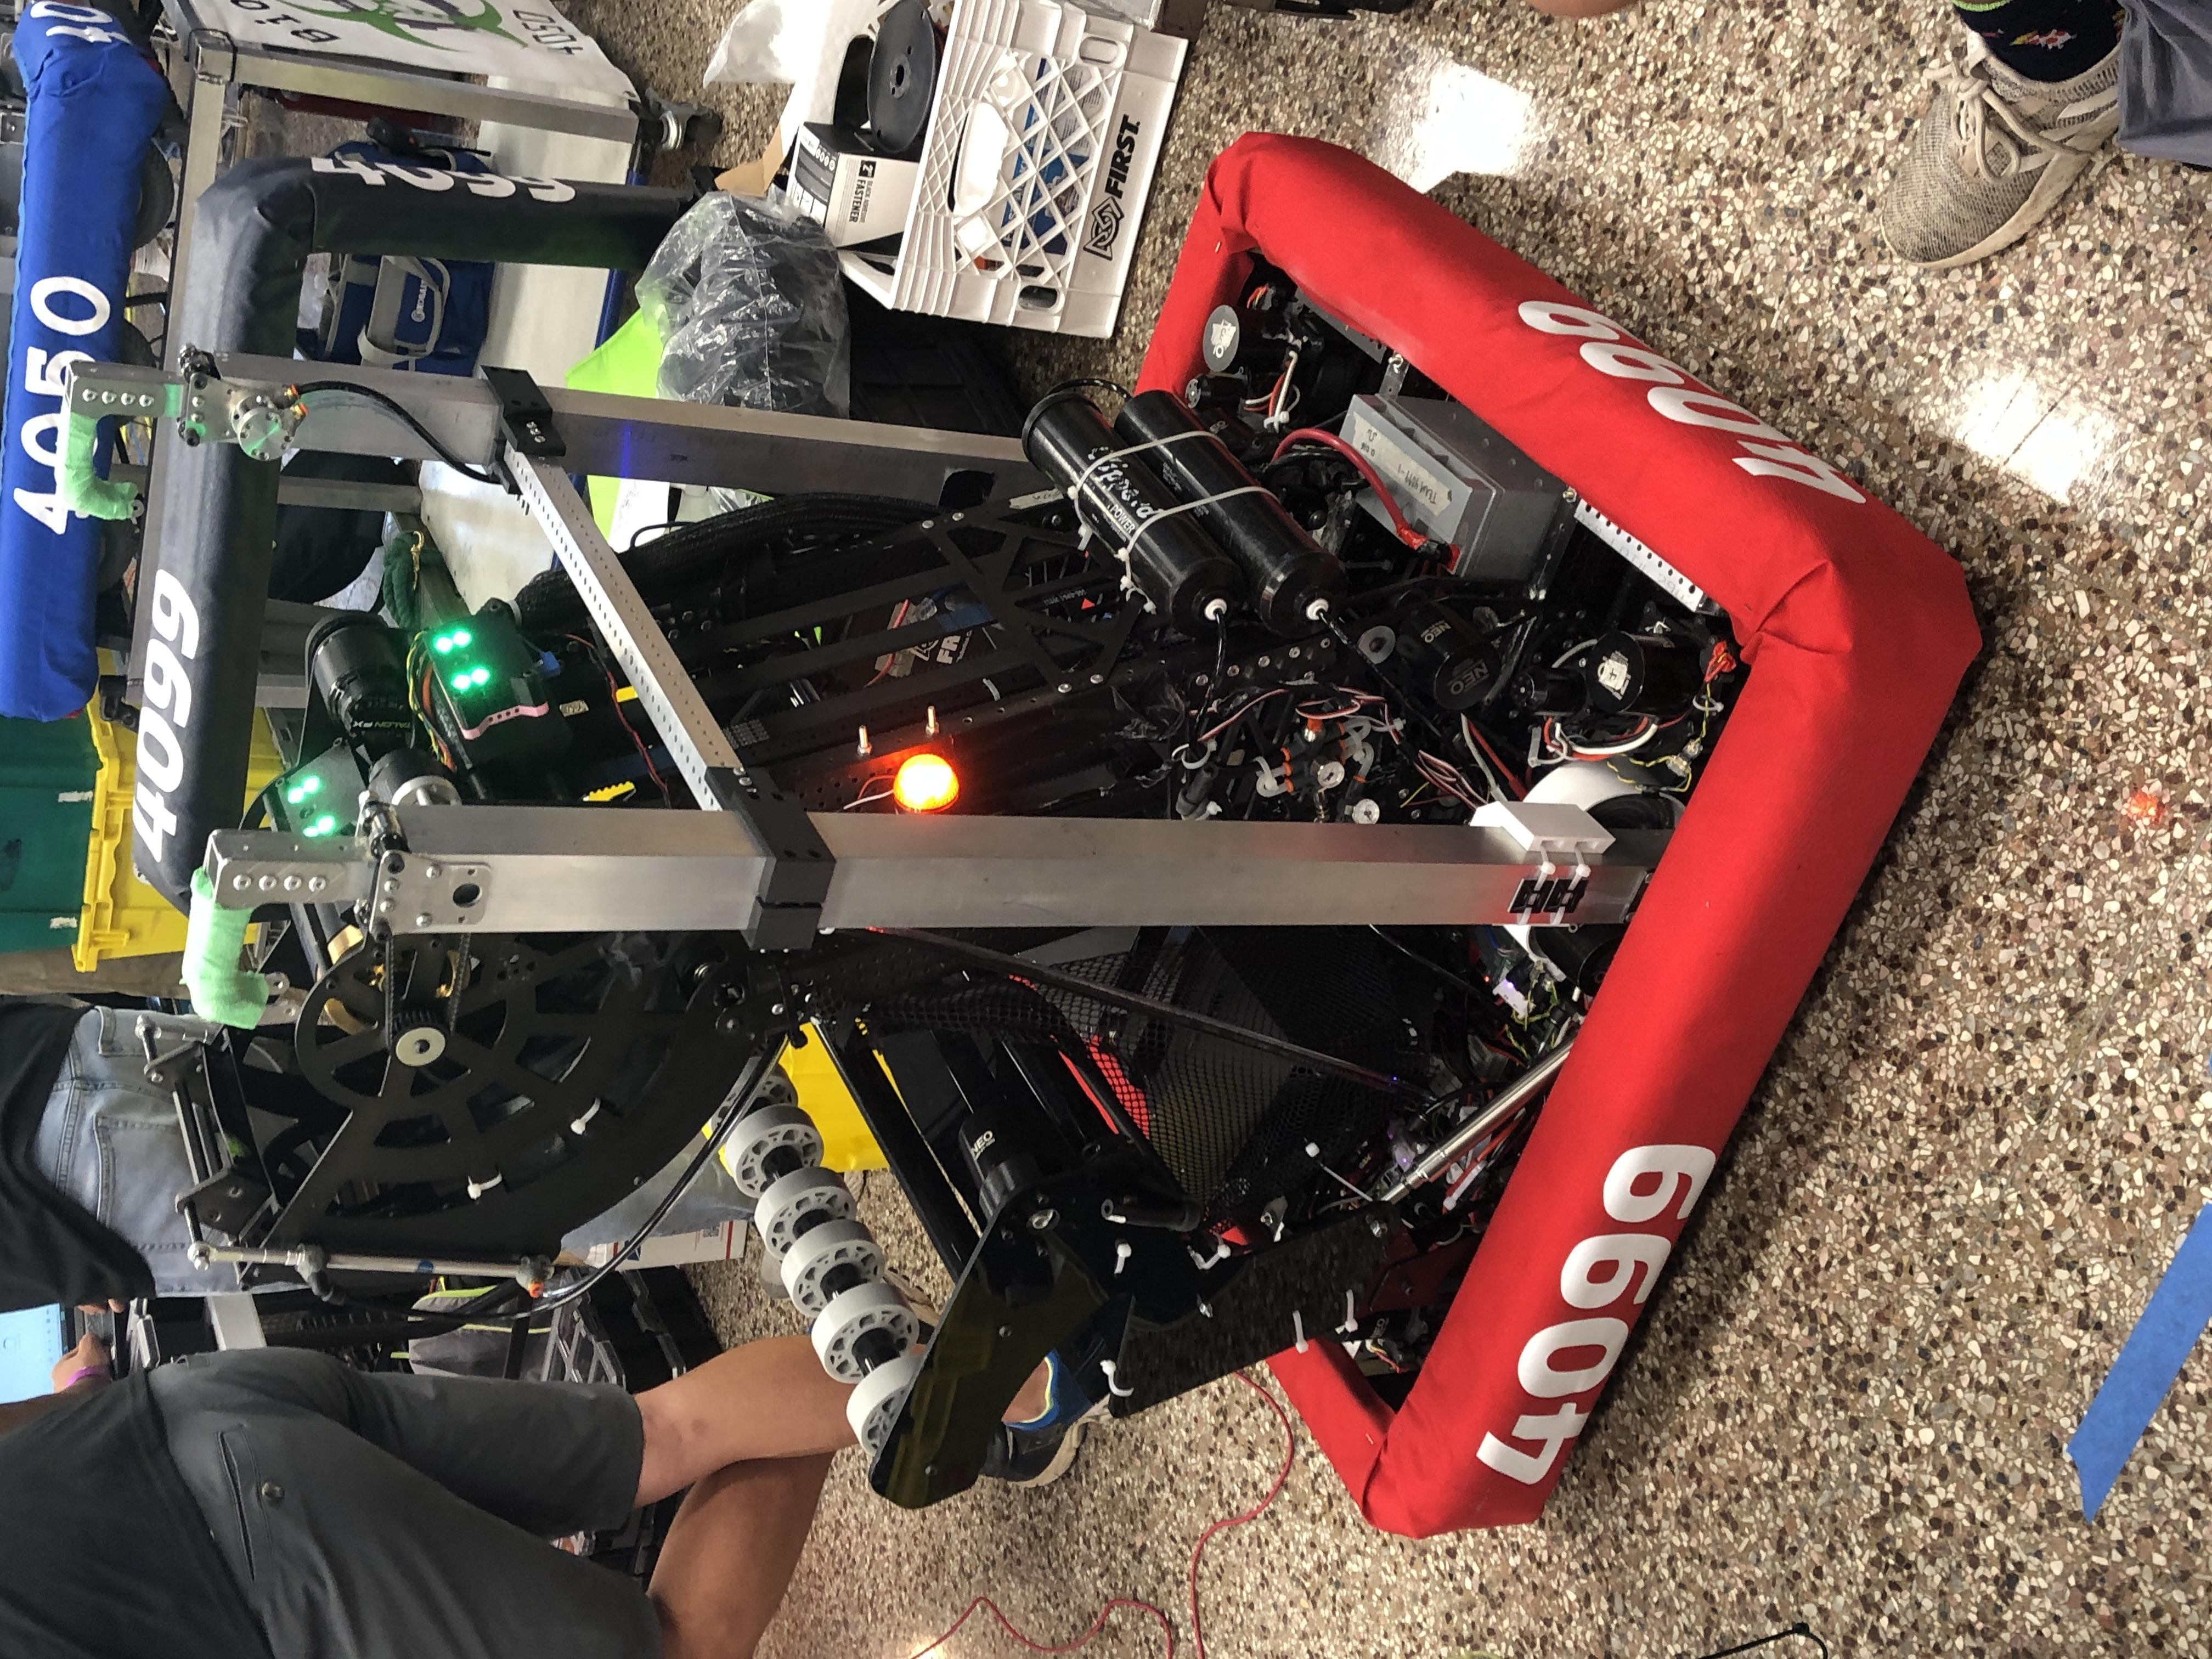robot: (152, 38, 2050, 1493)
